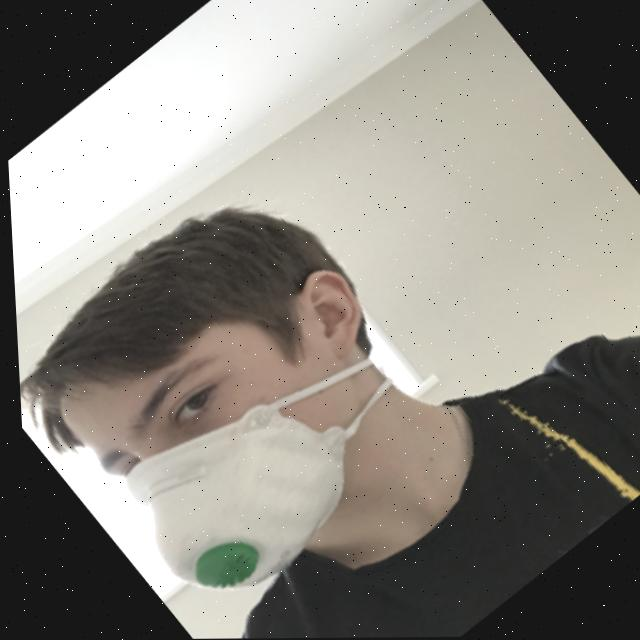Mask: (57, 247, 474, 628)
